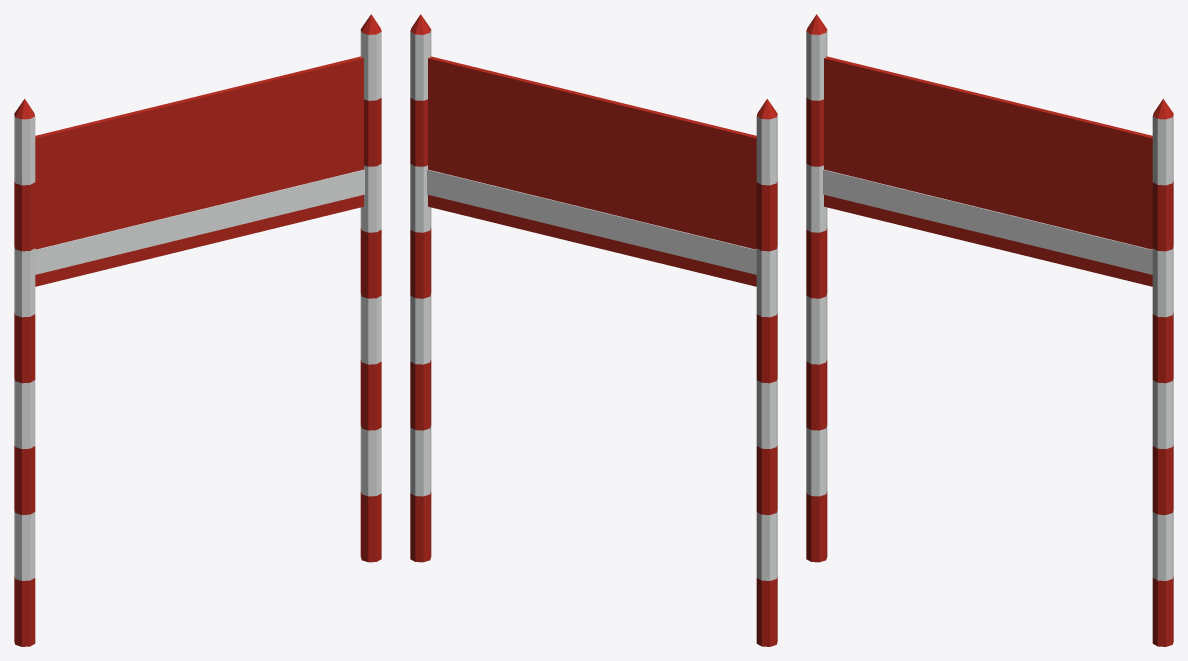
The model's file is slalom_red.glb.
3 renders of one model, left to right at view 1: azimuth 30°, elevation 25°; view 2: azimuth 150°, elevation 25°; view 3: azimuth 330°, elevation 25°, orthographic.
Parts seen in each view (by area): view 1: slalom_red; view 2: slalom_red; view 3: slalom_red.
Part boxes in pixels (x1,y1,x2,y2): slalom_red: [14, 14, 381, 646]; slalom_red: [410, 14, 777, 646]; slalom_red: [806, 14, 1173, 646].
Size of the model in its own units: 4.64 by 6.6 by 0.24.
1 material, 1 textured.
